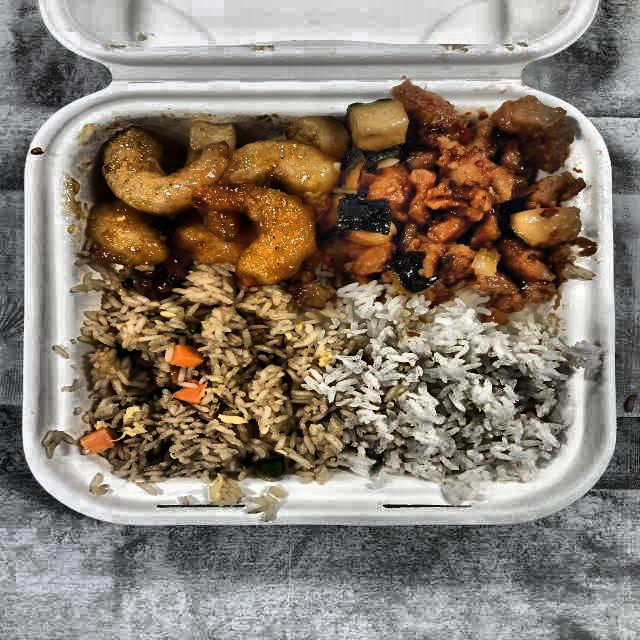Food: (318, 88, 593, 303), (67, 282, 331, 496), (72, 105, 345, 294), (326, 309, 564, 485)
